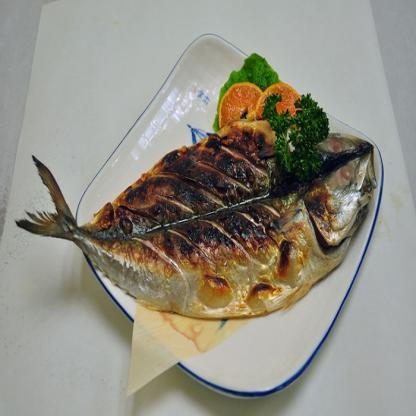Peixe: (0, 119, 391, 320)
